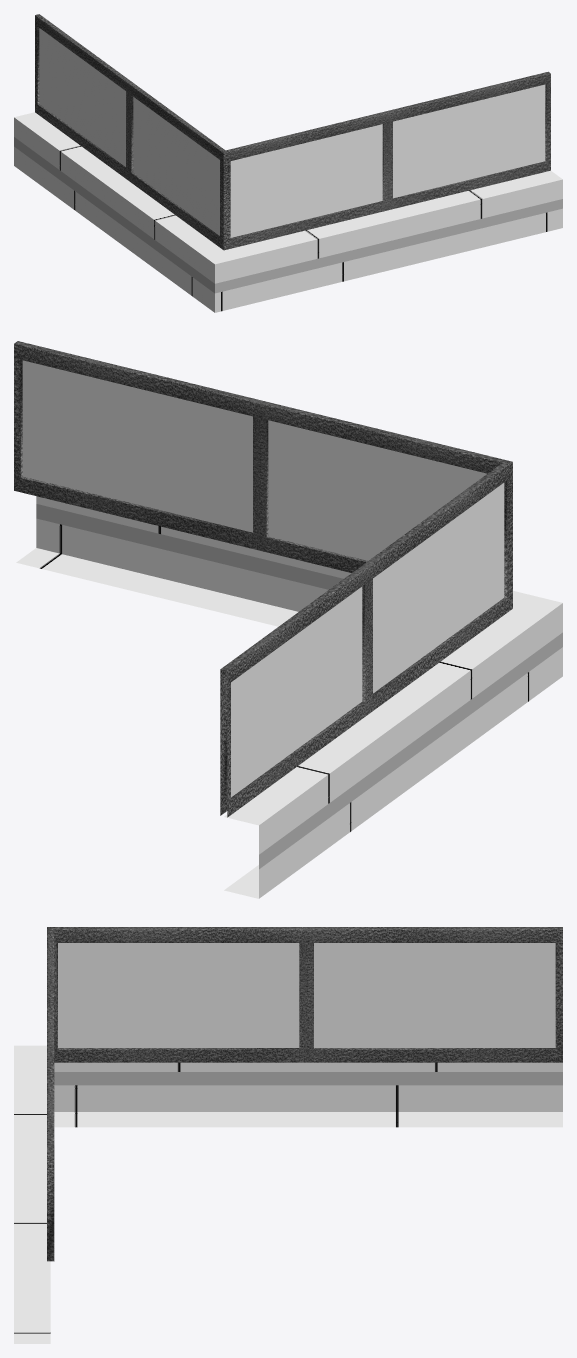
The model's file is Parapet02_350cmAngle4.FBX.
3 views of the same model, one above another, from view 1: azimuth 30°, elevation 25°; view 2: azimuth 150°, elevation 25°; view 3: azimuth 270°, elevation 25° (orthographic). The views are drawn at different scales.
Visible parts, largest first — view 1: Parapet02_350cmAngle4; view 2: Parapet02_350cmAngle4; view 3: Parapet02_350cmAngle4.
Boxes of the visible parts, box(x1,y1,x2,y2) form: Parapet02_350cmAngle4: box(14, 14, 562, 312); Parapet02_350cmAngle4: box(14, 341, 562, 898); Parapet02_350cmAngle4: box(14, 927, 562, 1343).
Size of the model in its own units: 375 by 150 by 375.
